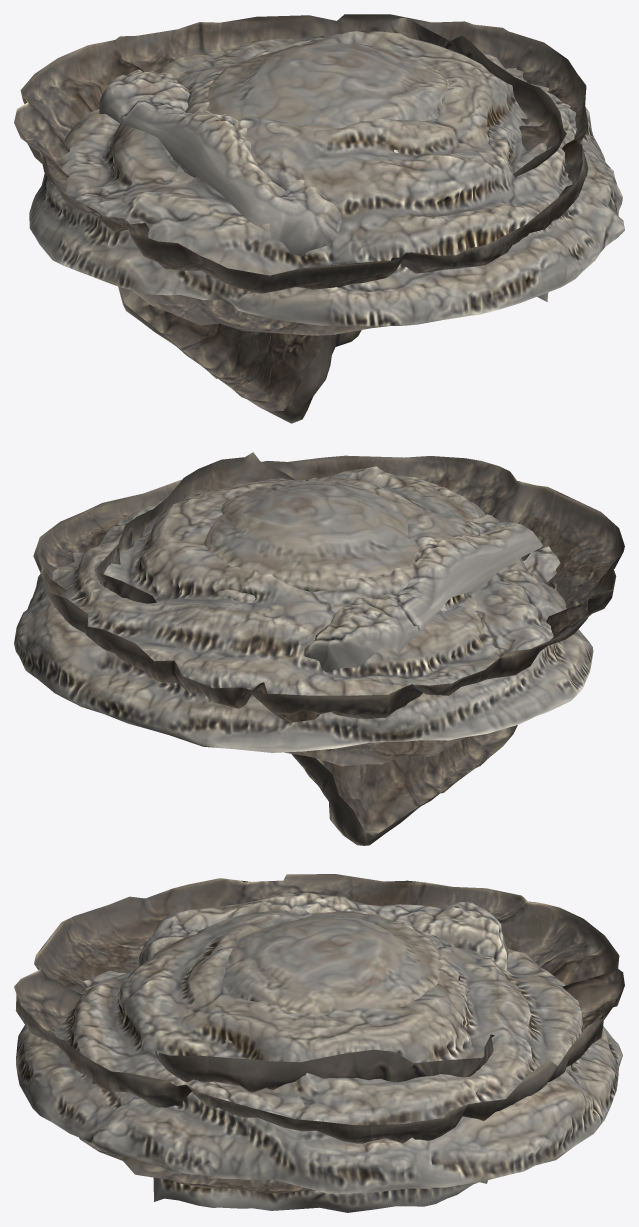
File: CaveCeilingFloor.FBX
3 renders of one model, top to bottom at view 1: azimuth 30°, elevation 25°; view 2: azimuth 150°, elevation 25°; view 3: azimuth 270°, elevation 25°, orthographic. The views are drawn at different scales.
Visible parts, largest first — view 1: CaveFloor2, CaveTop2, CaveTop1, CaveFloor3, CaveFloor1, CaveTop3; view 2: CaveFloor2, CaveTop2, CaveFloor3, CaveTop1, CaveFloor1, CaveTop3; view 3: CaveFloor2, CaveTop2, CaveFloor3, CaveFloor1, CaveTop1, CaveTop3.
Part boxes in pixels (<box>): CaveFloor2: <box>29,31,624,326</box>; CaveTop2: <box>14,14,588,293</box>; CaveTop1: <box>118,17,566,423</box>; CaveFloor3: <box>163,43,488,183</box>; CaveFloor1: <box>99,69,548,301</box>; CaveTop3: <box>132,290,388,335</box>; CaveFloor2: <box>14,466,593,752</box>; CaveTop2: <box>33,455,624,722</box>; CaveFloor3: <box>204,480,476,612</box>; CaveTop1: <box>94,452,517,845</box>; CaveFloor1: <box>303,514,543,672</box>; CaveTop3: <box>284,737,466,766</box>; CaveFloor2: <box>16,906,622,1193</box>; CaveTop2: <box>14,874,624,1143</box>; CaveFloor3: <box>189,911,467,1043</box>; CaveFloor1: <box>139,892,508,1212</box>; CaveTop1: <box>155,1034,494,1092</box>; CaveTop3: <box>79,1137,431,1193</box>.
Bounding box in the file's own units: 333 × 165 × 334.
